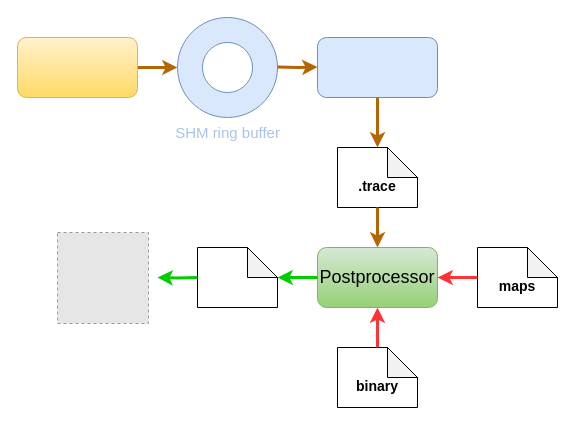
The diagram is 575 pixels wide and 425 high, and some of its shapes have lost their labels. Grey dashed boxes stand in for pictures. The shapes that lost their labels are listed below. From the top down, each one's centre as x and y in pixels, then its label:
the point at 77,67: App
the point at 377,67: Grabber
the point at 237,277: .json
